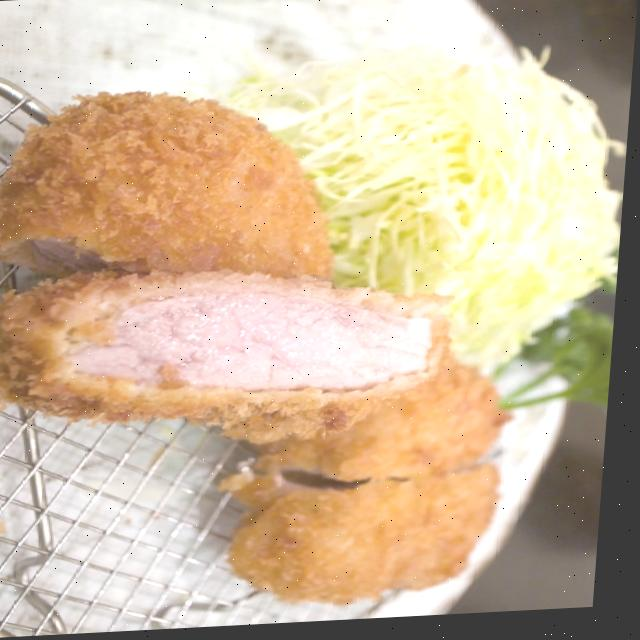牛肉菜式: (0, 44, 581, 640)
